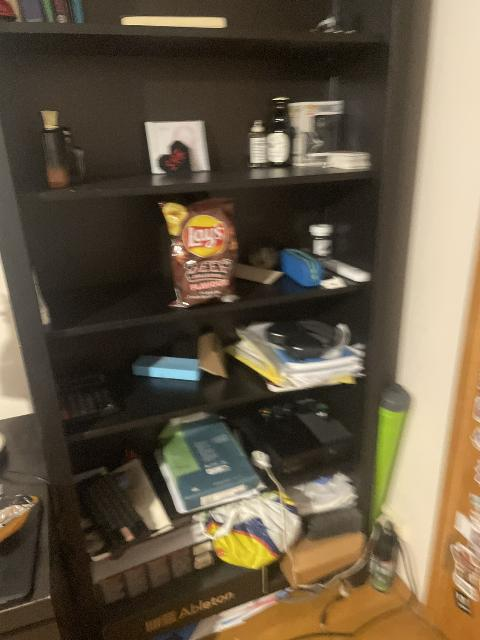Lays Beef Grilled Ribs 125g: (158, 197, 239, 308)
